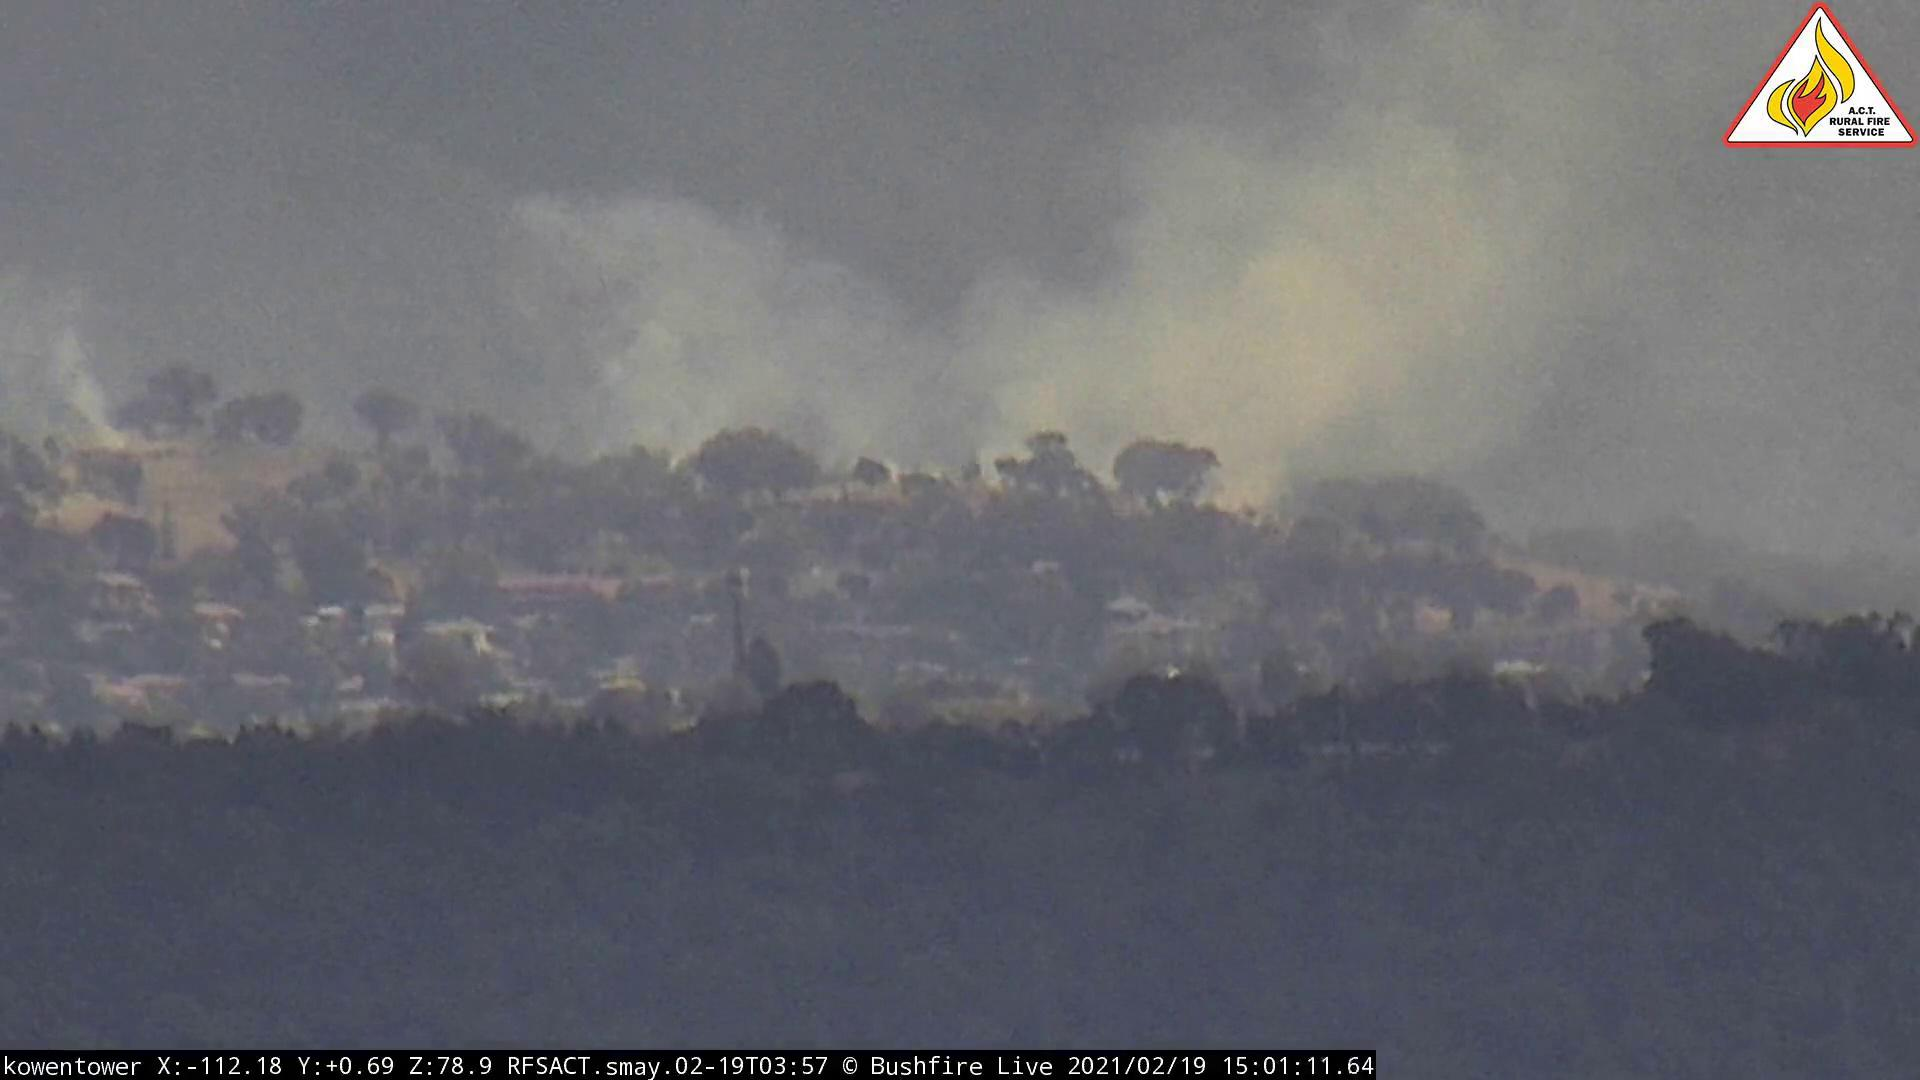Smoke: (444, 36, 1717, 516)
